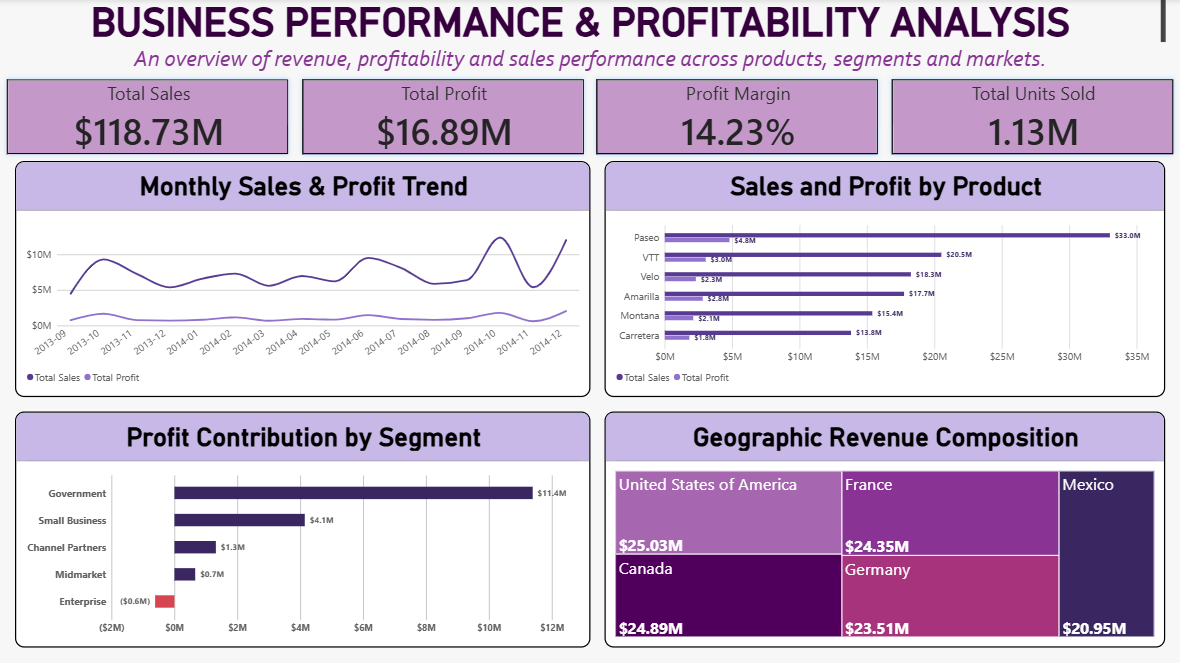

This screenshot's page, from the dashboard's own definition file:
{"tool":"powerbi","page":{"name":"Business Overview","canvas":[1920,1080],"ordinal":0},"visuals":[{"type":"textbox","box":[0,0,1896,72],"z":0},{"type":"cardVisual","fields":{"Data":["Sheet1.Total Sales"]},"box":[0,120,480,144],"z":0,"group":"g1"},{"type":"lineChart","title":"Monthly Sales & Profit Trend","fields":{"Category":["DateTable.Year Month"],"Y":["Sheet1.Total Sales","Sheet1.Total Profit"]},"box":[24,264,936,384],"z":0,"group":"g2"},{"type":"clusteredBarChart","title":"Profit Contribution by Segment","fields":{"Category":["Sheet1.Segment"],"Y":["Sheet1.Total Profit"]},"box":[24,672,936,384],"z":0,"group":"g3"},{"type":"group","id":"g1","title":"Group 1","box":[0,120,1920,144],"z":1000},{"type":"cardVisual","fields":{"Data":["Sheet1.Total Profit"]},"box":[480,120,480,144],"z":1000,"group":"g1"},{"type":"clusteredBarChart","title":"Sales and Profit by Product","fields":{"Category":["Sheet1.Product"],"Y":["Sheet1.Total Sales","Sheet1.Total Profit"]},"box":[984,264,912,384],"z":1000,"group":"g2"},{"type":"treemap","title":"Geographic Revenue Composition","fields":{"Group":["Sheet1.Country"],"Values":["Sheet1.Total Sales"]},"box":[984,672,912,384],"z":1000,"group":"g3"},{"type":"textbox","box":[0,72,1920,46],"z":2000},{"type":"cardVisual","fields":{"Data":["Sheet1.Profit Margin"]},"box":[960,120,480,144],"z":2000,"group":"g1"},{"type":"cardVisual","fields":{"Data":["Sheet1.Total Units Sold"]},"box":[1440,120,480,144],"z":3000,"group":"g1"},{"type":"group","id":"g2","title":"Group 2","box":[24,264,1872,384],"z":3000},{"type":"group","id":"g3","title":"Group 3","box":[24,672,1872,384],"z":4002}]}

Visuals, with their boxes in screenshot pixels (x1, y1, x2, y2), scaled from the page's 1920x1080 canvas onto the 1180x663 screenshot:
textbox: bbox=(0, 0, 1165, 44)
cardVisual - Sheet1.Total Sales: bbox=(0, 74, 295, 162)
"Monthly Sales & Profit Trend" lineChart: bbox=(15, 162, 590, 398)
"Profit Contribution by Segment" clusteredBarChart: bbox=(15, 413, 590, 648)
"Group 1" group: bbox=(0, 74, 1179, 162)
cardVisual - Sheet1.Total Profit: bbox=(295, 74, 590, 162)
"Sales and Profit by Product" clusteredBarChart: bbox=(605, 162, 1165, 398)
"Geographic Revenue Composition" treemap: bbox=(605, 413, 1165, 648)
textbox: bbox=(0, 44, 1179, 72)
cardVisual - Sheet1.Profit Margin: bbox=(590, 74, 885, 162)
cardVisual - Sheet1.Total Units Sold: bbox=(885, 74, 1179, 162)
"Group 2" group: bbox=(15, 162, 1165, 398)
"Group 3" group: bbox=(15, 413, 1165, 648)
